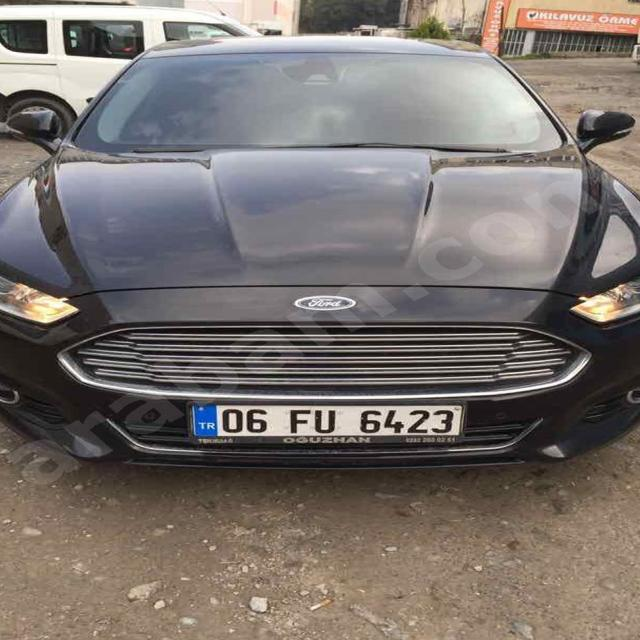license_plate: (191, 404, 463, 436)
